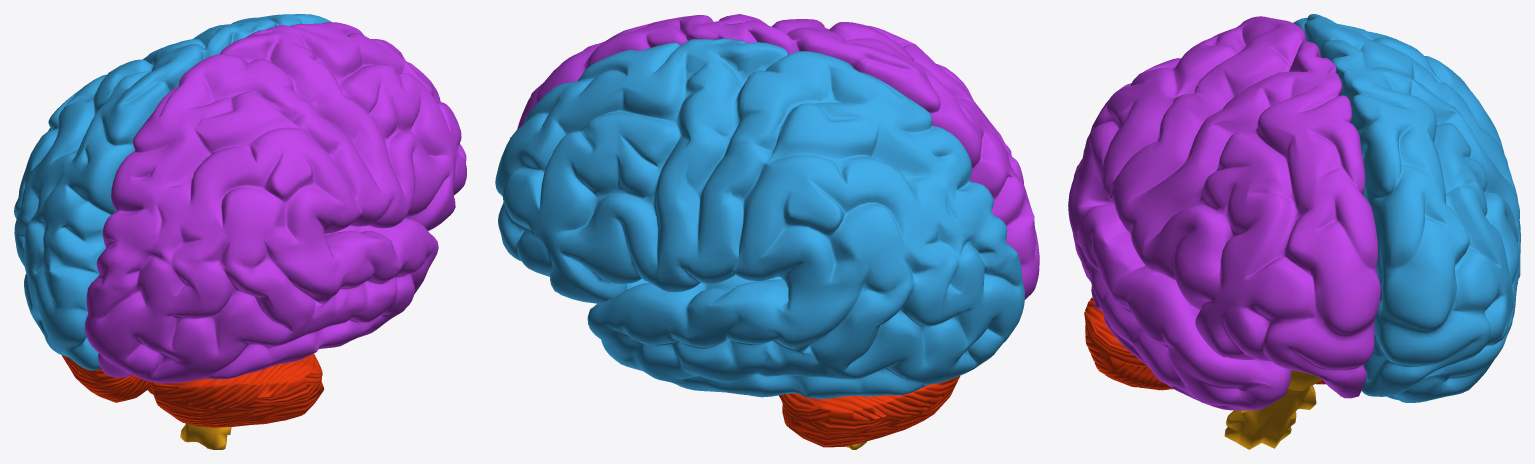
The model's file is hemispheres.glb.
3 renders of one model, left to right at view 1: azimuth 30°, elevation 25°; view 2: azimuth 150°, elevation 25°; view 3: azimuth 270°, elevation 25°, orthographic. The views are drawn at different scales.
Visible parts, largest first — view 1: Brain_Part_06, Brain_Part_04, Brain_Part_02, Brain_Part_05; view 2: Brain_Part_04, Brain_Part_06, Brain_Part_02; view 3: Brain_Part_06, Brain_Part_04, Brain_Part_05, Brain_Part_02.
Boxes of the visible parts, bbox=[...] form: Brain_Part_06: bbox=[84, 22, 466, 383]; Brain_Part_04: bbox=[14, 14, 331, 370]; Brain_Part_02: bbox=[61, 353, 324, 427]; Brain_Part_05: bbox=[180, 423, 231, 449]; Brain_Part_04: bbox=[495, 38, 1024, 399]; Brain_Part_06: bbox=[517, 14, 1039, 299]; Brain_Part_02: bbox=[779, 376, 960, 447]; Brain_Part_06: bbox=[1068, 16, 1380, 410]; Brain_Part_04: bbox=[1293, 14, 1520, 402]; Brain_Part_05: bbox=[1224, 370, 1321, 449]; Brain_Part_02: bbox=[1084, 297, 1325, 390].
Size of the model in its own units: 4.73 by 4.03 by 3.82.
